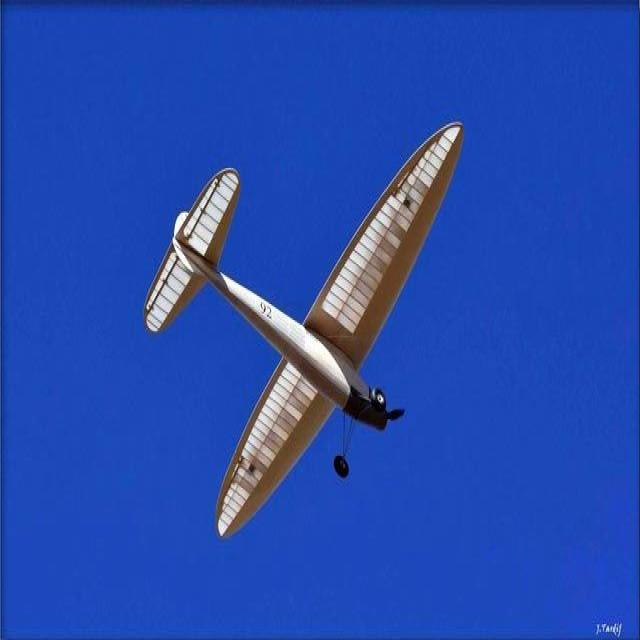iha: (142, 111, 467, 535)
